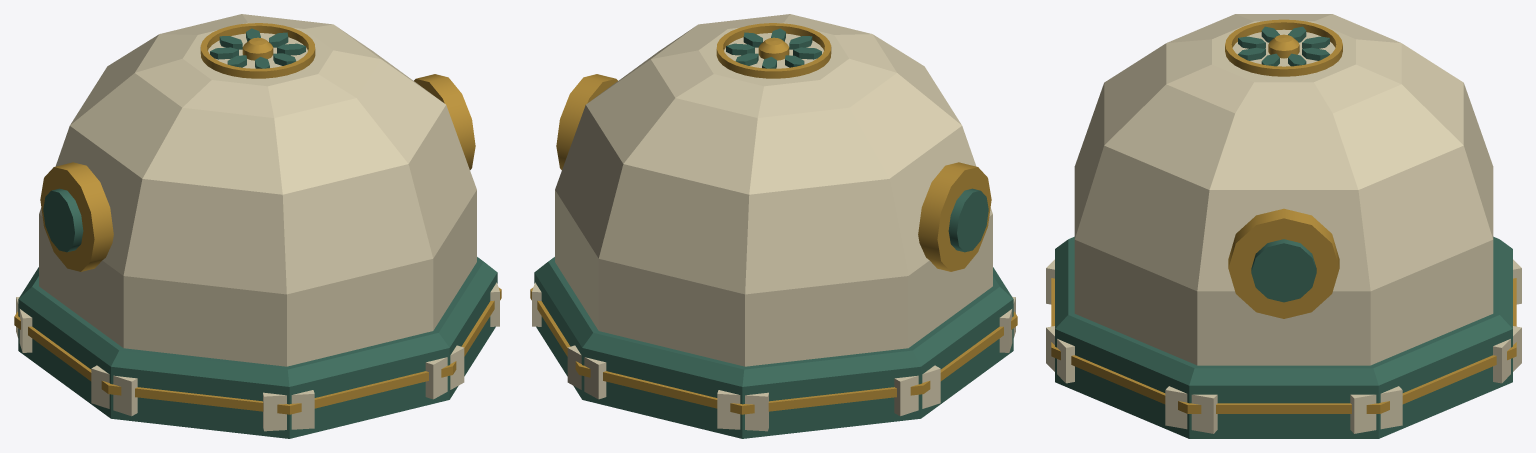
File: pd3_mount.obj
The picture shows the model from 3 angles, left to right: view 1: azimuth 30°, elevation 25°; view 2: azimuth 150°, elevation 25°; view 3: azimuth 270°, elevation 25°; orthographic projection. The views are drawn at different scales.
Visible parts, largest first — view 1: pd3_mount; view 2: pd3_mount; view 3: pd3_mount.
Part boxes in pixels (<box>): pd3_mount: <box>14,14,501,438</box>; pd3_mount: <box>530,14,1017,438</box>; pd3_mount: <box>1046,14,1521,438</box>.
Size of the model in its own units: 1.46 by 1.03 by 1.46.
